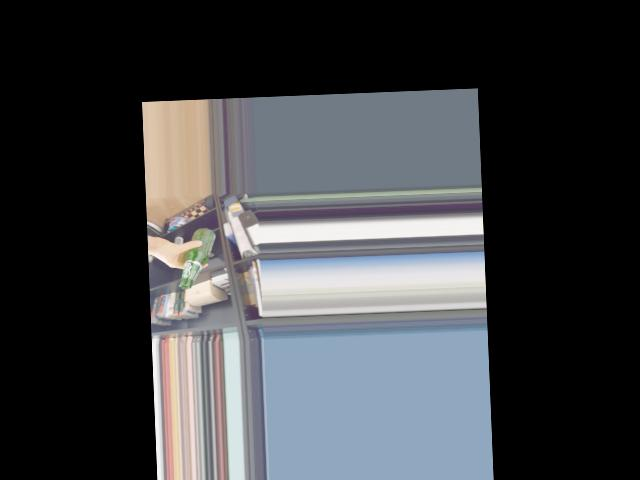beer: (177, 227, 218, 289)
